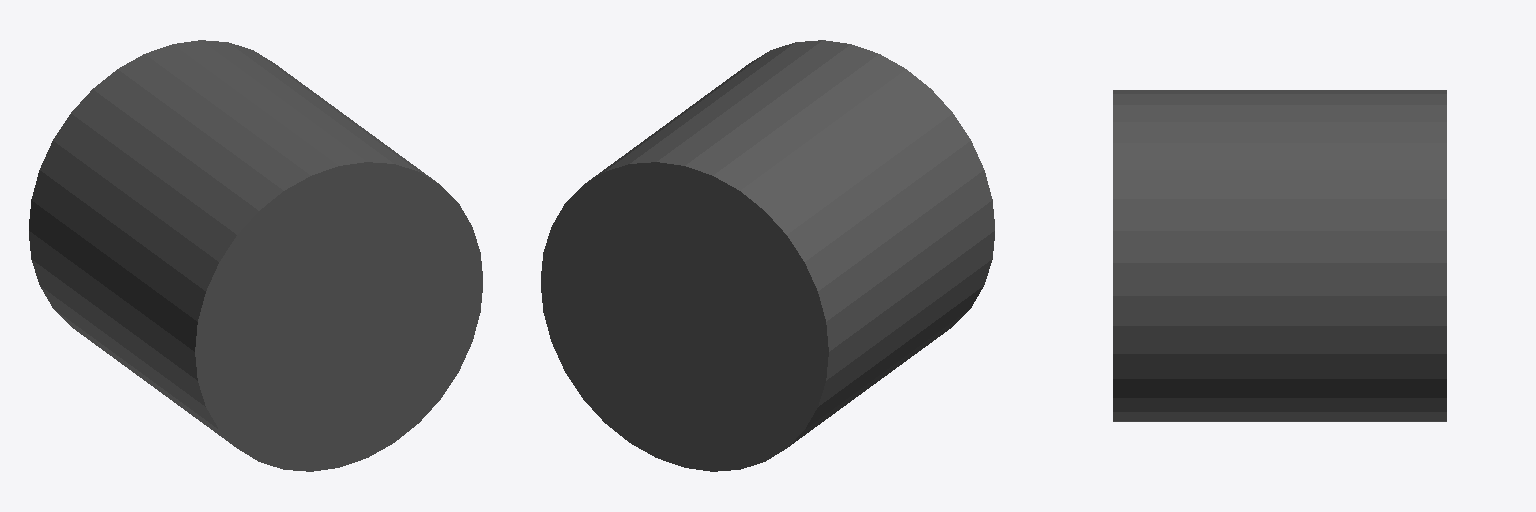
File: knob.obj
3 views of the same model, side by side, from view 1: azimuth 30°, elevation 25°; view 2: azimuth 150°, elevation 25°; view 3: azimuth 270°, elevation 25° (orthographic).
Visible parts, largest first — view 1: knob; view 2: knob; view 3: knob.
Boxes of the visible parts, x1,y1,x2,y2 form: knob: [29, 40, 482, 471]; knob: [541, 40, 994, 471]; knob: [1113, 90, 1446, 421].
Size of the model in its own units: 0.3155 by 0.3155 by 0.3155.